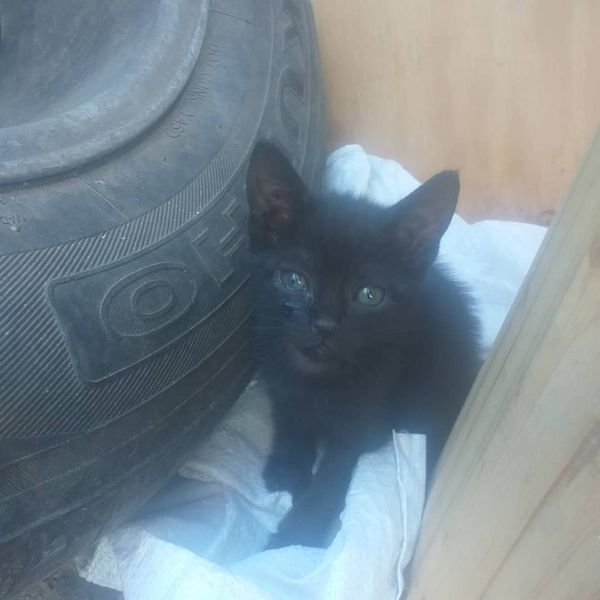cat: (221, 120, 507, 559)
